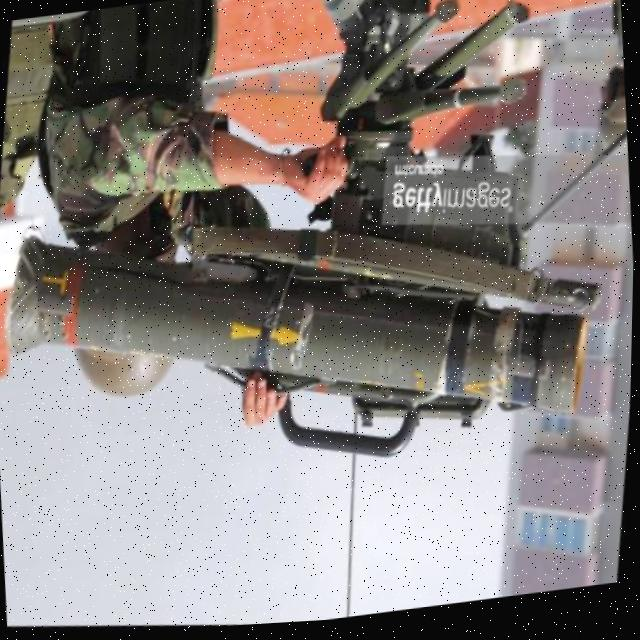rocket: (0, 165, 617, 491)
